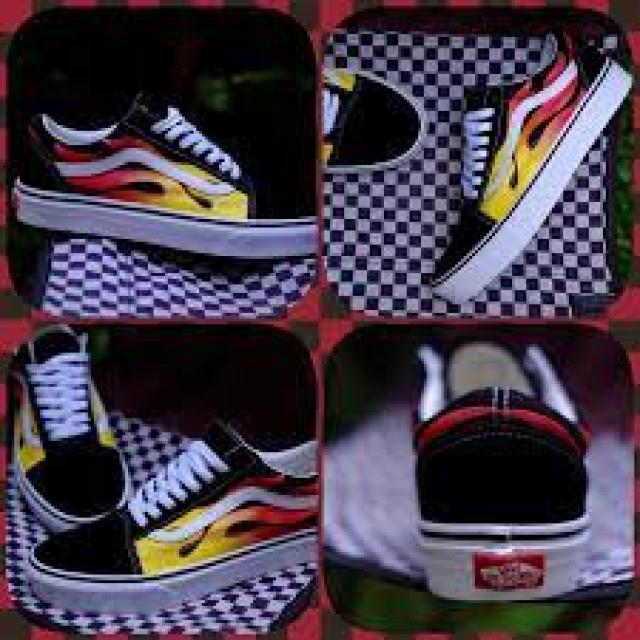shoe: (0, 1, 634, 639), (8, 323, 320, 612), (15, 81, 317, 266), (436, 29, 634, 307), (406, 334, 582, 606)
